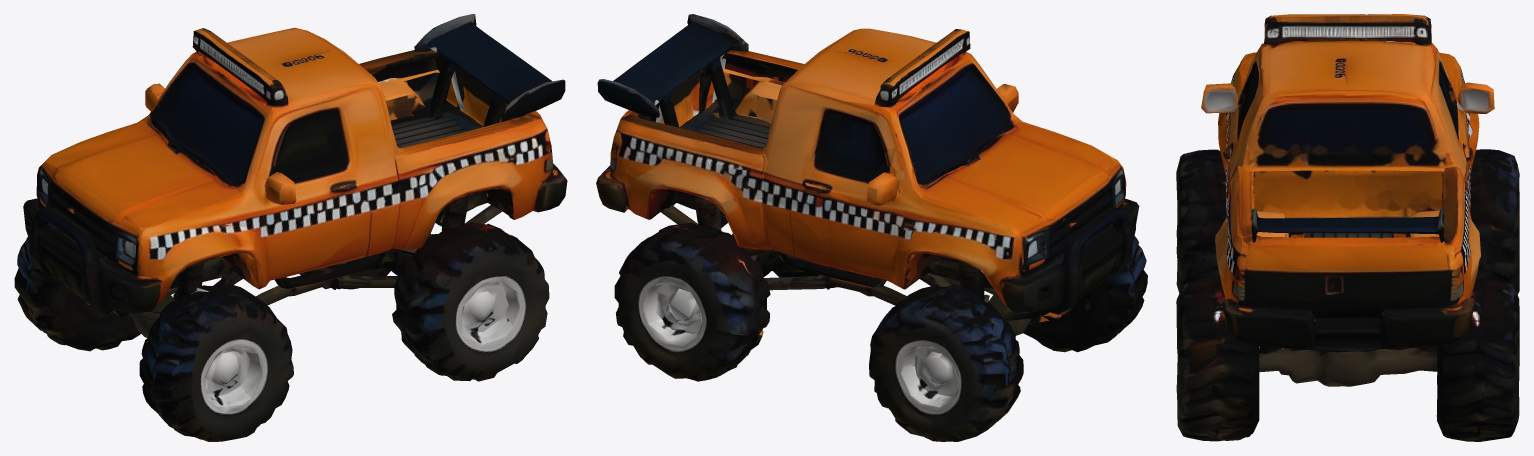
Rendered from orange.glb.
3 views of the same model, side by side, from view 1: azimuth 30°, elevation 25°; view 2: azimuth 150°, elevation 25°; view 3: azimuth 270°, elevation 25° (orthographic). The views are drawn at different scales.
Size of the model in its own units: 1.99 by 1.29 by 1.22.
Materials: 1 (1 with a texture image).
